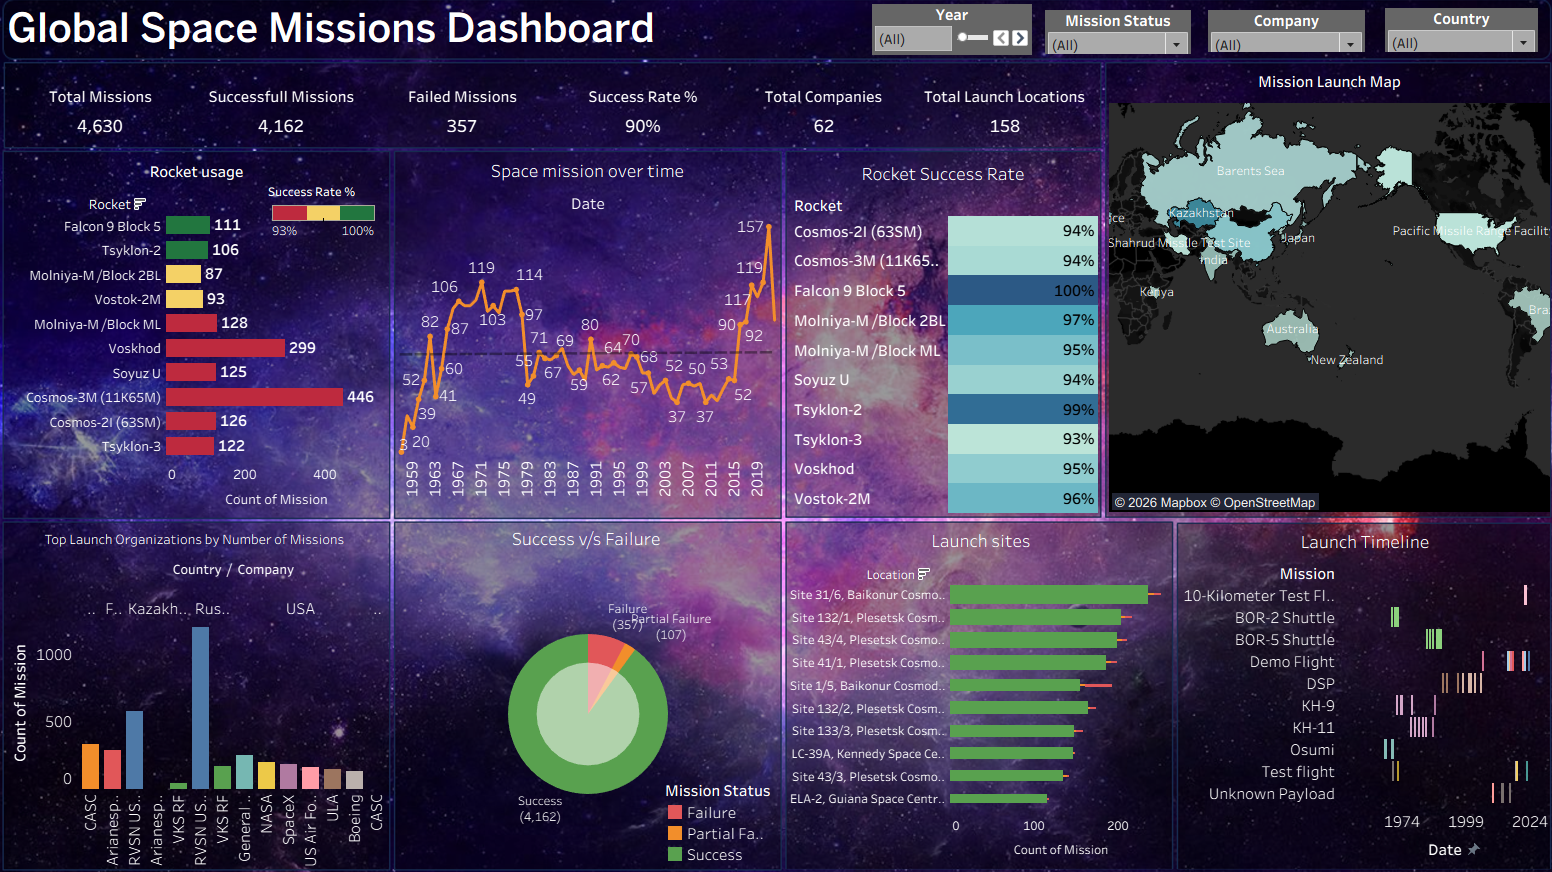

The page's visual inventory and layout, read from the dashboard file:
{"tool":"tableau","page":{"name":"Space mission dashboard","canvas":[1580,900],"ordinal":0},"visuals":[{"type":"image","param":"Image/space background.png","box":[8,8,1564,884]},{"type":"filter","title":"Filters","param":"[federated.16n310l1mkbzr01efwcor0iu8qdv].[yr:Date:ok]","box":[885,17,160,51]},{"type":"text","box":[17,21,664,41]},{"type":"filter","title":"Filters","param":"[federated.16n310l1mkbzr01efwcor0iu8qdv].[none:Calculation_0682570195472391:nk]","box":[1398,21,153,44]},{"type":"filter","title":"Filters","param":"[federated.16n310l1mkbzr01efwcor0iu8qdv].[none:MissionStatus:nk]","box":[1058,23,146,44]},{"type":"filter","title":"Filters","param":"[federated.16n310l1mkbzr01efwcor0iu8qdv].[none:Company:nk]","box":[1221,23,157,42]},{"type":"worksheet","title":"KPI Cards","mark":"Text","box":[23,80,1085,77]},{"type":"worksheet","title":"Mission Launch Map","mark":"Automatic","box":[1122,80,441,445]},{"type":"worksheet","title":"Space mission over time","mark":"Automatic","rows":["Mission"],"cols":["Date"],"box":[411,167,379,362]},{"type":"worksheet","title":"Rocket usage","mark":"Automatic","rows":["Rocket"],"cols":["Mission"],"box":[19,170,381,358]},{"type":"worksheet","title":"Rocket Success Rate","mark":"Square","rows":["Rocket"],"box":[801,170,310,356]},{"type":"legend","title":"Rocket usage","param":"[federated.16n310l1mkbzr01efwcor0iu8qdv].[usr:Calculation_0682570191486979:qk]","box":[281,196,111,70]},{"type":"worksheet","title":"Success v/s Failure ","mark":"Pie","rows":["Calculation_0682570200645641","Calculation_0682570200645641"],"box":[411,535,380,345]},{"type":"worksheet","title":"Launch sites","mark":"Automatic","rows":["Location"],"cols":["Mission"],"box":[803,537,382,341]},{"type":"worksheet","title":"Launch Timeline","mark":"GanttBar","rows":["Mission"],"cols":["Date"],"box":[1193,538,370,342]},{"type":"worksheet","title":"Top Launch Organizations by Number of Missions","mark":"Automatic","rows":["Mission"],"cols":["Calculation_0682570195472391","Company"],"box":[15,539,385,343]},{"type":"worksheet","title":"Filters","mark":"Automatic","box":[482,587,64,38]},{"type":"legend","title":"Success v/s Failure ","param":"[federated.16n310l1mkbzr01efwcor0iu8qdv].[none:MissionStatus:nk]","box":[678,793,107,85]}]}

Visuals, with their boxes in screenshot pixels (x1, y1, x2, y2), scaled from the page's 1580x900 canvas onto the 1552x872 screenshot:
image: bbox=(8, 8, 1544, 864)
"Filters" filter: bbox=(869, 16, 1026, 66)
text: bbox=(17, 20, 669, 60)
"Filters" filter: bbox=(1373, 20, 1524, 63)
"Filters" filter: bbox=(1039, 22, 1183, 65)
"Filters" filter: bbox=(1199, 22, 1354, 63)
"KPI Cards" worksheet (Text marks): bbox=(23, 78, 1088, 152)
"Mission Launch Map" worksheet: bbox=(1102, 78, 1535, 509)
"Space mission over time" worksheet: bbox=(404, 162, 776, 513)
"Rocket usage" worksheet: bbox=(19, 165, 393, 512)
"Rocket Success Rate" worksheet (Square marks): bbox=(787, 165, 1091, 510)
"Rocket usage" legend: bbox=(276, 190, 385, 258)
"Success v/s Failure " worksheet (Pie marks): bbox=(404, 518, 777, 853)
"Launch sites" worksheet: bbox=(789, 520, 1164, 851)
"Launch Timeline" worksheet (GanttBar marks): bbox=(1172, 521, 1535, 853)
"Top Launch Organizations by Number of Missions" worksheet: bbox=(15, 522, 393, 855)
"Filters" worksheet: bbox=(473, 569, 536, 606)
"Success v/s Failure " legend: bbox=(666, 768, 771, 851)
